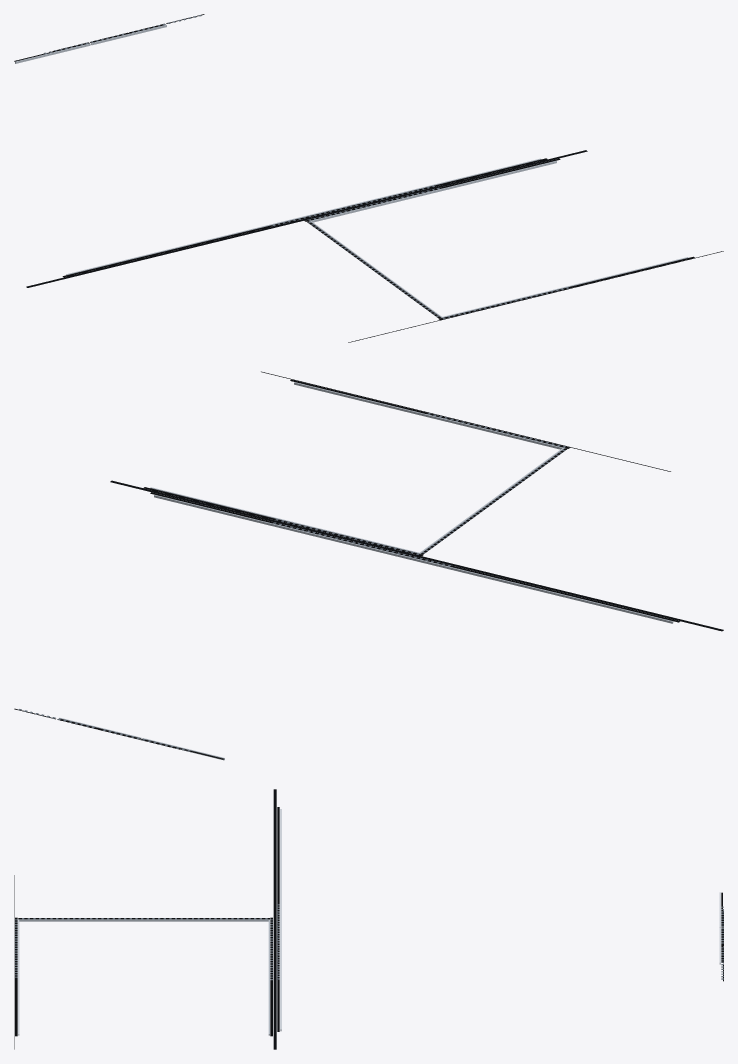
File: tt_pool_deck_finish_b.glb
3 views of the same model, one above another, from view 1: azimuth 30°, elevation 25°; view 2: azimuth 150°, elevation 25°; view 3: azimuth 270°, elevation 25° (orthographic). The views are drawn at different scales.
Parts seen in each view (by area): view 1: Coping, Gutter_DarkSlot, Deck_Terrazzo, Gutter_Grate; view 2: Coping, Gutter_DarkSlot, Deck_Terrazzo, Gutter_Grate; view 3: Gutter_DarkSlot, Coping, Deck_Terrazzo, Gutter_Grate.
Boxes of the visible parts, bbox=[...] form: Coping: bbox=[15, 25, 688, 318]; Gutter_DarkSlot: bbox=[14, 14, 694, 319]; Deck_Terrazzo: bbox=[26, 150, 723, 342]; Gutter_Grate: bbox=[44, 15, 568, 318]; Coping: bbox=[59, 382, 673, 760]; Gutter_DarkSlot: bbox=[14, 379, 679, 759]; Deck_Terrazzo: bbox=[110, 371, 723, 631]; Gutter_Grate: bbox=[18, 413, 565, 751]; Gutter_DarkSlot: bbox=[15, 807, 723, 1036]; Coping: bbox=[18, 809, 720, 1035]; Deck_Terrazzo: bbox=[14, 789, 276, 1049]; Gutter_Grate: bbox=[15, 904, 723, 980].
Size of what is drawn, in the model's own units: 29.36 by 0.096 by 33.85.
4 materials, 4 textured.
